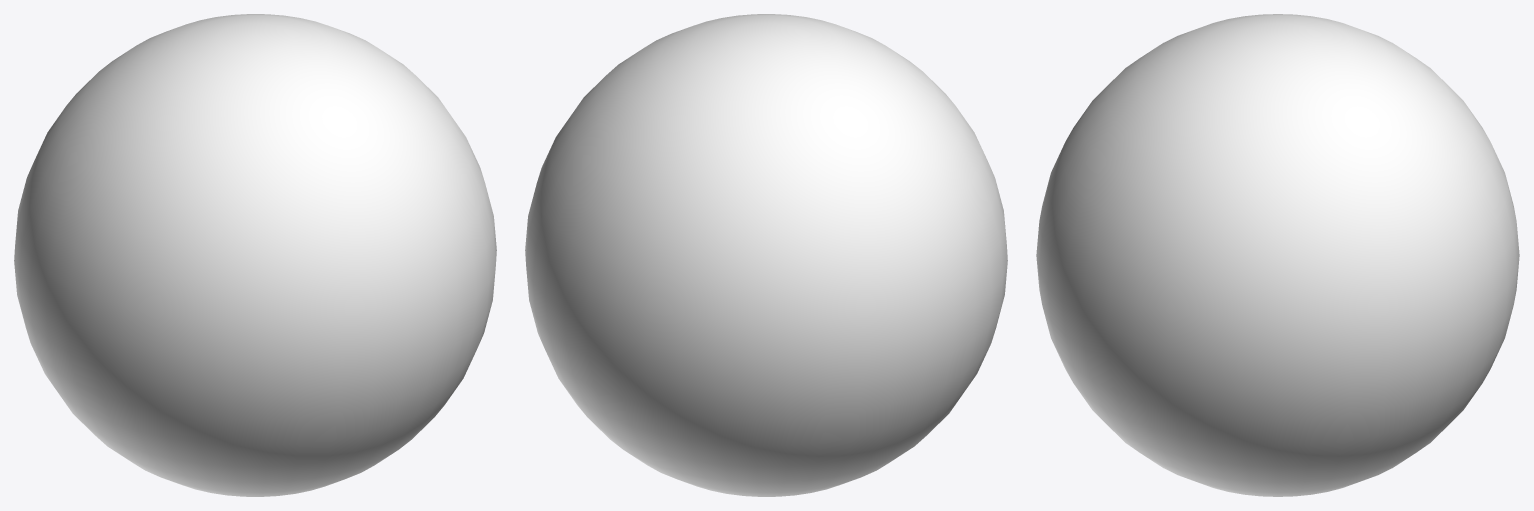
Rendered from shield.glb.
3 renders of one model, left to right at view 1: azimuth 30°, elevation 25°; view 2: azimuth 150°, elevation 25°; view 3: azimuth 270°, elevation 25°, orthographic.
Visible parts, largest first — view 1: Sphere005; view 2: Sphere005; view 3: Sphere005.
Part boxes in pixels (x1=…): Sphere005: x1=14, y1=14, x2=496, y2=496; Sphere005: x1=525, y1=14, x2=1007, y2=496; Sphere005: x1=1036, y1=14, x2=1519, y2=496.
Size of the model in its own units: 2.44 by 2.44 by 2.44.
1 material, 1 textured.
